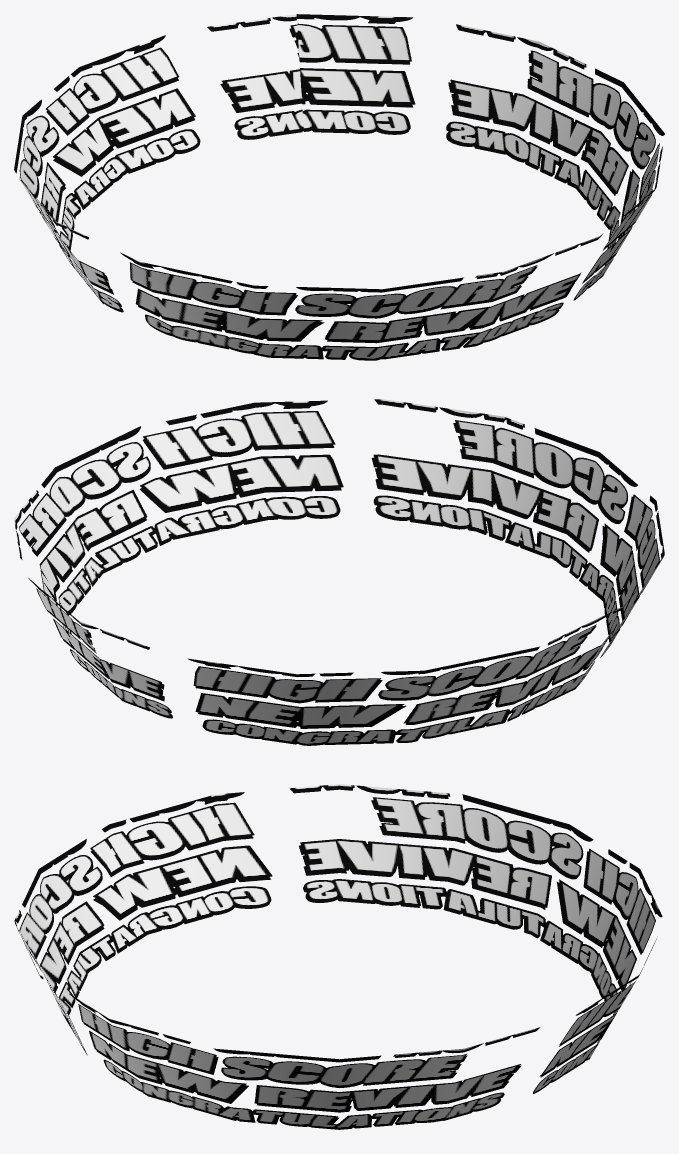
File: Cone (Top).fbx
The picture shows the model from 3 angles, top to bottom: view 1: azimuth 30°, elevation 25°; view 2: azimuth 150°, elevation 25°; view 3: azimuth 270°, elevation 25°; orthographic projection.
Parts seen in each view (by area): view 1: Circle; view 2: Circle; view 3: Circle.
Part boxes in pixels (x1,y1,x2,y2): Circle: (14, 14, 664, 360); Circle: (14, 399, 664, 745); Circle: (14, 784, 662, 1129).
Bounding box in the file's own units: 248 × 45 × 248.
